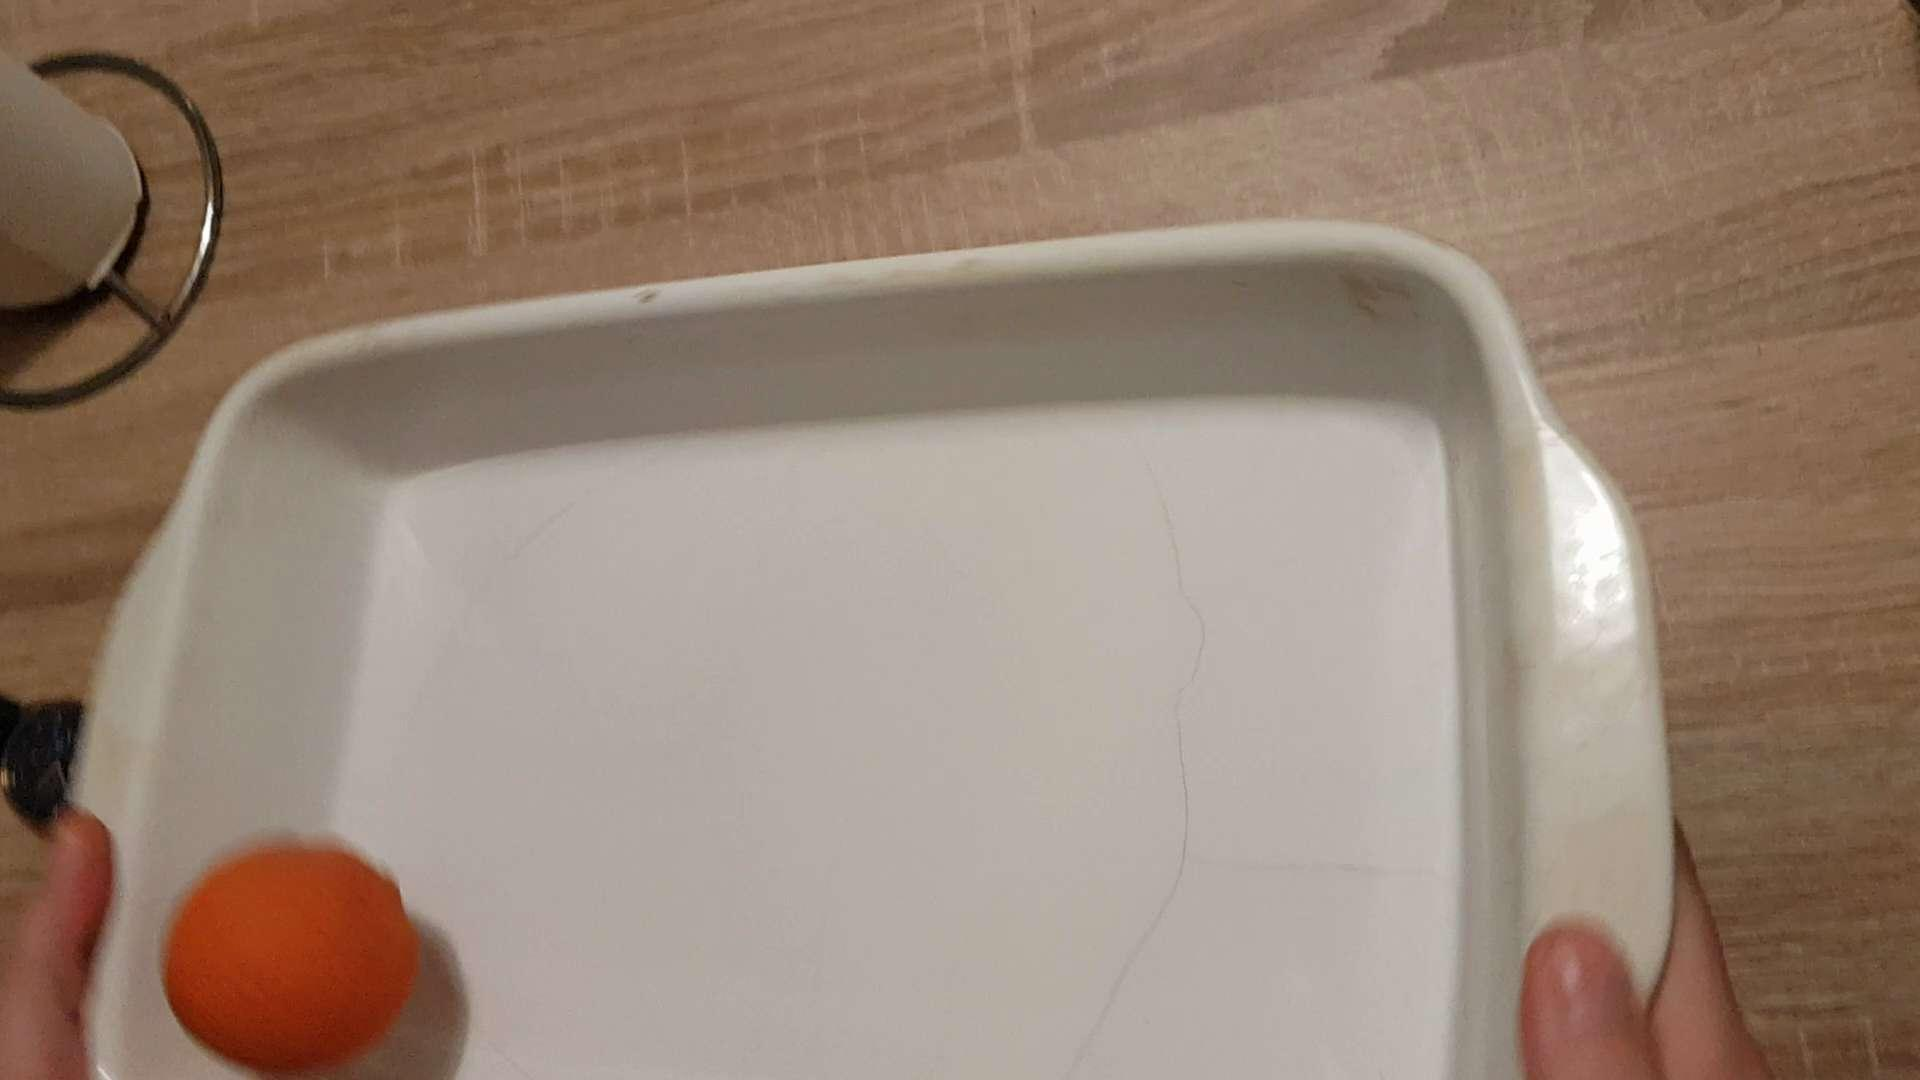sphere: (149, 836, 415, 1072)
